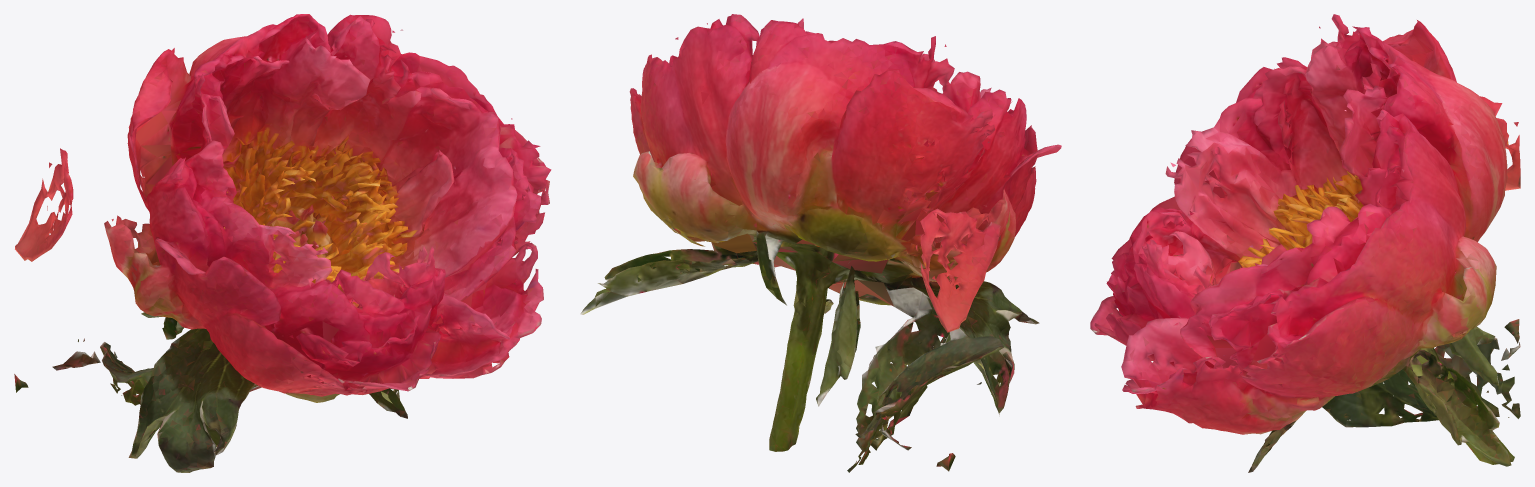
The model's file is peony.glb.
The picture shows the model from 3 angles, left to right: view 1: azimuth 30°, elevation 25°; view 2: azimuth 150°, elevation 25°; view 3: azimuth 270°, elevation 25°; orthographic projection. The views are drawn at different scales.
Visible parts, largest first — view 1: model; view 2: model; view 3: model.
Boxes of the visible parts, x1,y1,x2,y2 form: model: [14, 14, 551, 472]; model: [580, 14, 1061, 472]; model: [1090, 14, 1520, 472].
Bounding box in the file's own units: 0.1455 × 0.1276 × 0.1209.
1 material, 1 textured.
